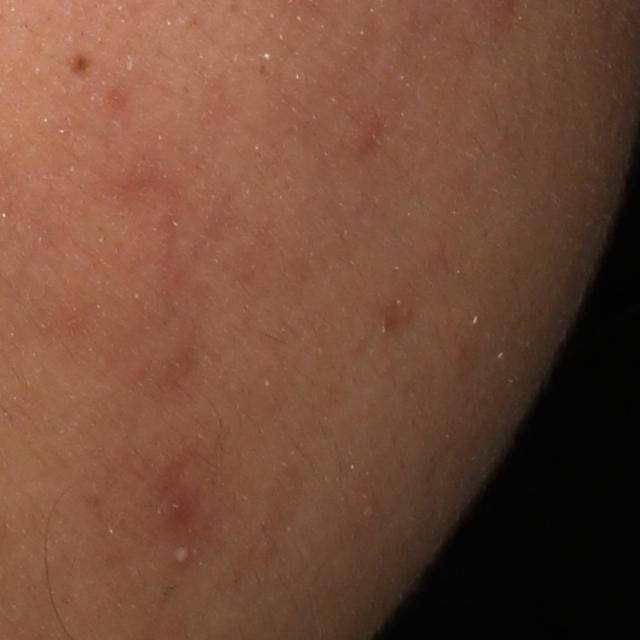nevus: (63, 50, 95, 78)
papule: (353, 117, 389, 158)
pustule: (163, 537, 196, 573)
